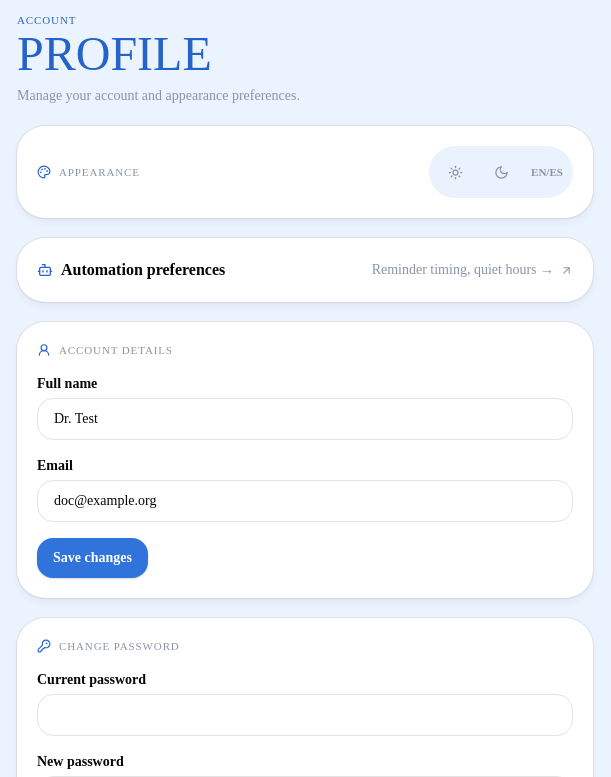
Scenario: ProfilePage error classification › renders emailTaken on a 409 from updateProfile
Expected: the field showing "doc@example.org" below "Email" is shown, [37, 480, 573, 522]
Click the button "Save changes".
click(92, 558)  # box [37, 538, 148, 578]
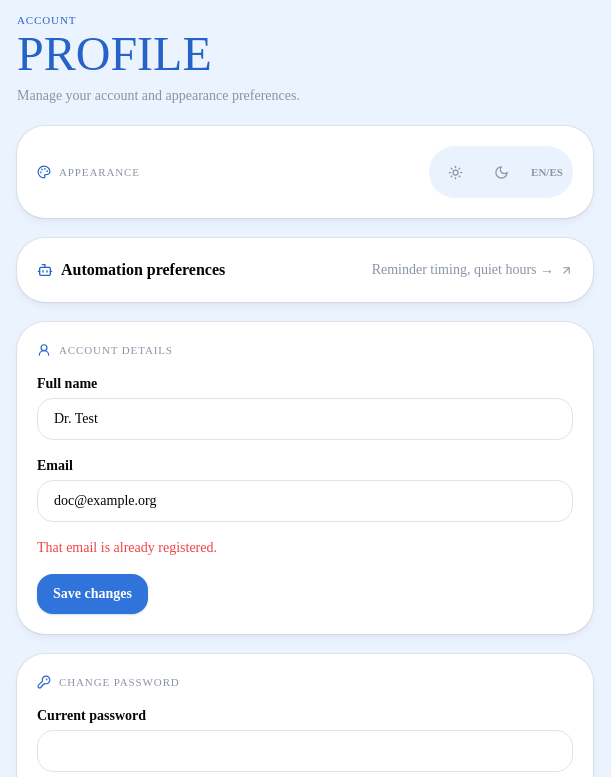
Now the text "That email is already registered." is shown, box [37, 540, 217, 555]
